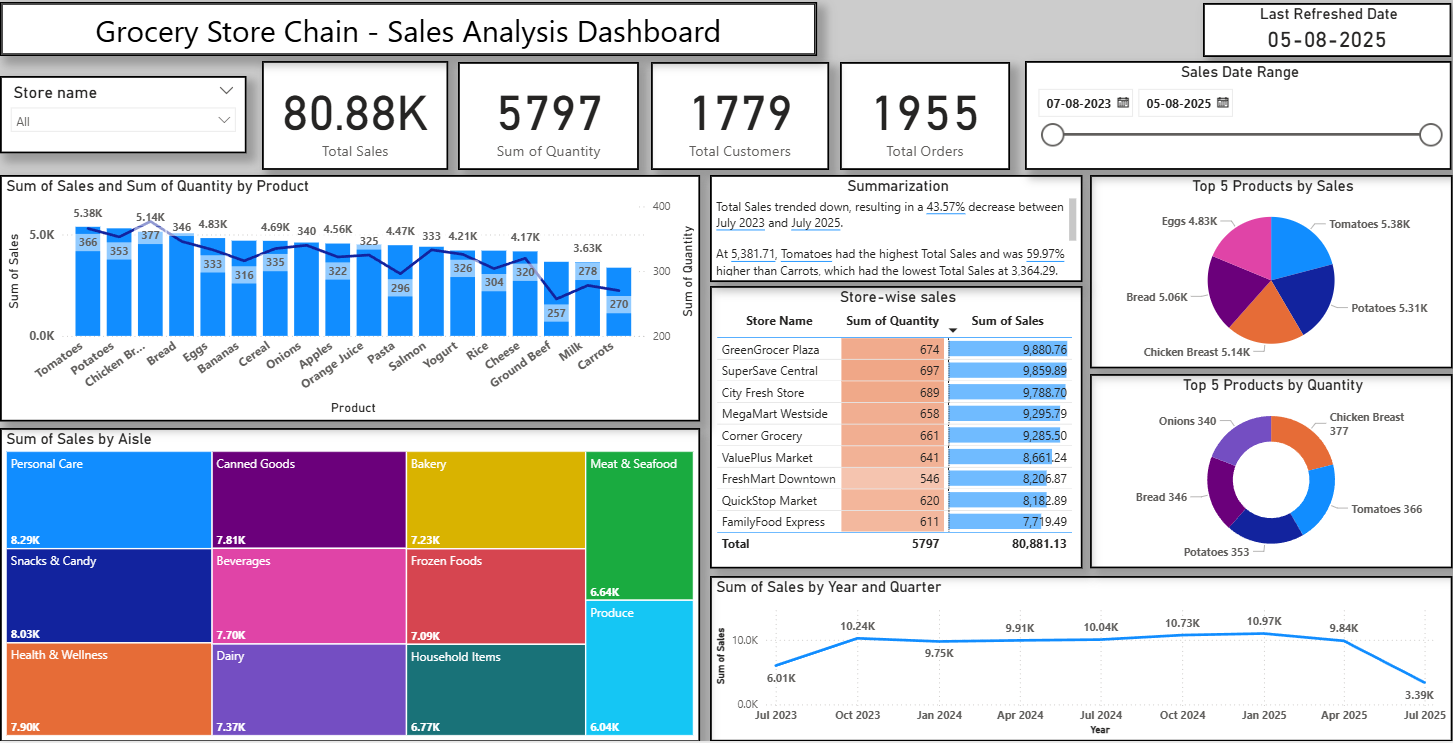

What the dashboard file says about the page in this screenshot:
{"tool":"powerbi","page":{"name":"Page 1","canvas":[1618,825],"ordinal":0},"visuals":[{"type":"card","fields":{"Values":["grocery_chain_data.Total Sales"]},"box":[291.4,68.6,207.1,121.4],"z":0},{"type":"card","fields":{"Values":["grocery_chain_data.Total Orders"]},"box":[933.8,70,188.8,120],"z":1000},{"type":"card","fields":{"Values":["grocery_chain_data.Total Customers"]},"box":[723.8,70,197.5,120],"z":2000},{"type":"card","title":"Last Refreshed Date","fields":{"Values":["grocery_chain_data.Last Refreshed Date"]},"box":[1337.1,4.3,275.7,60],"z":3000},{"type":"lineChart","title":"Sum of Sales by Year and Quarter","fields":{"Category":["grocery_chain_data.transaction_date.Variation.Date Hierarchy.Year","grocery_chain_data.transaction_date.Variation.Date Hierarchy.Quarter","grocery_chain_data.transaction_date.Variation.Date Hierarchy.Month"],"Y":["Sum(grocery_chain_data.final_amount)"]},"box":[788.8,641.2,825,183.8],"z":4000},{"type":"donutChart","title":"Top 5 Products by Quantity","fields":{"Category":["grocery_chain_data.product_name"],"Y":["Sum(grocery_chain_data.quantity)"]},"box":[1211.2,416.2,402.5,216.2],"z":5000},{"type":"pieChart","title":"Top 5 Products by Sales","fields":{"Category":["grocery_chain_data.product_name"],"Y":["Sum(grocery_chain_data.final_amount)"]},"box":[1211.2,195,402.5,215],"z":6000},{"type":"treemap","title":"Sum of Sales by Aisle","fields":{"Group":["grocery_chain_data.aisle"],"Values":["Sum(grocery_chain_data.final_amount)"]},"box":[0,476.2,777.5,348.8],"z":7000},{"type":"tableEx","title":"Store-wise sales","fields":{"Values":["grocery_chain_data.store_name","Sum(grocery_chain_data.quantity)","Sum(grocery_chain_data.final_amount)"]},"box":[788.8,318.8,413.8,313.8],"z":8000},{"type":"shape","box":[0,3.8,907.5,60],"z":9000},{"type":"card","fields":{"Values":["Sum(grocery_chain_data.quantity)"]},"box":[508.8,70,201.2,120],"z":10000},{"type":"slicer","fields":{"Values":["grocery_chain_data.store_name"]},"box":[0,85,273.8,86.2],"z":11000},{"type":"lineStackedColumnComboChart","fields":{"Y":["Sum(grocery_chain_data.final_amount)"],"Category":["grocery_chain_data.product_name"],"Y2":["Sum(grocery_chain_data.quantity)"]},"box":[0,195,777.5,273.8],"z":12000},{"type":"textbox","title":"Summarization","box":[788.8,195,413.8,118.8],"z":13000},{"type":"slicer","title":"Sales Date Range","fields":{"Values":["grocery_chain_data.transaction_date"]},"box":[1138.8,68.8,473.8,121.2],"z":14000}]}

Visuals, with their boxes in screenshot pixels (x1, y1, x2, y2), scaled from the page's 1618x825 canvas onto the 1453x743 screenshot:
card - grocery_chain_data.Total Sales: Rect(262, 62, 448, 171)
card - grocery_chain_data.Total Orders: Rect(839, 63, 1008, 171)
card - grocery_chain_data.Total Customers: Rect(650, 63, 827, 171)
"Last Refreshed Date" card: Rect(1201, 4, 1448, 58)
"Sum of Sales by Year and Quarter" lineChart: Rect(708, 577, 1449, 742)
"Top 5 Products by Quantity" donutChart: Rect(1088, 375, 1449, 570)
"Top 5 Products by Sales" pieChart: Rect(1088, 176, 1449, 369)
"Sum of Sales by Aisle" treemap: Rect(0, 429, 698, 742)
"Store-wise sales" tableEx: Rect(708, 287, 1080, 570)
shape: Rect(0, 3, 815, 57)
card - Sum(grocery_chain_data.quantity): Rect(457, 63, 638, 171)
slicer - grocery_chain_data.store_name: Rect(0, 77, 246, 154)
lineStackedColumnComboChart - Sum(grocery_chain_data.final_amount) x grocery_chain_data.product_name: Rect(0, 176, 698, 422)
"Summarization" textbox: Rect(708, 176, 1080, 283)
"Sales Date Range" slicer: Rect(1023, 62, 1448, 171)
